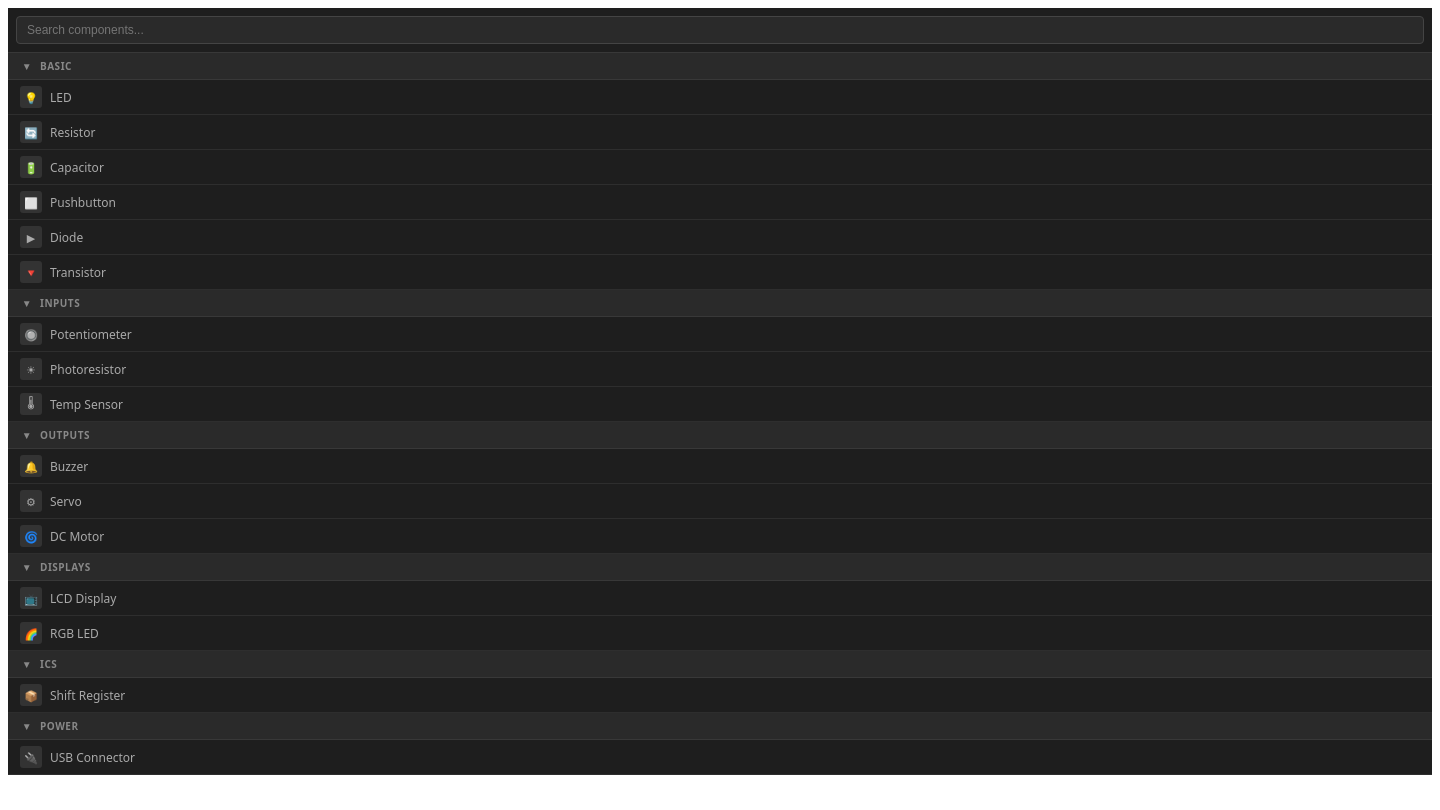
Test: TinkercadPalette › collapses a category when its header is clicked
This screenshot has width=1440, height=810.
Expected: the text "▼" is shown 6 times, [22,59,32,73]; [22,296,32,310]; [22,428,32,442]; [22,560,32,574]; [22,657,32,671]; [22,719,32,733]
# Click Basic header to collapse
Click the element with test id "category-header-Basic" at [720, 66], box [8,53,1432,80]
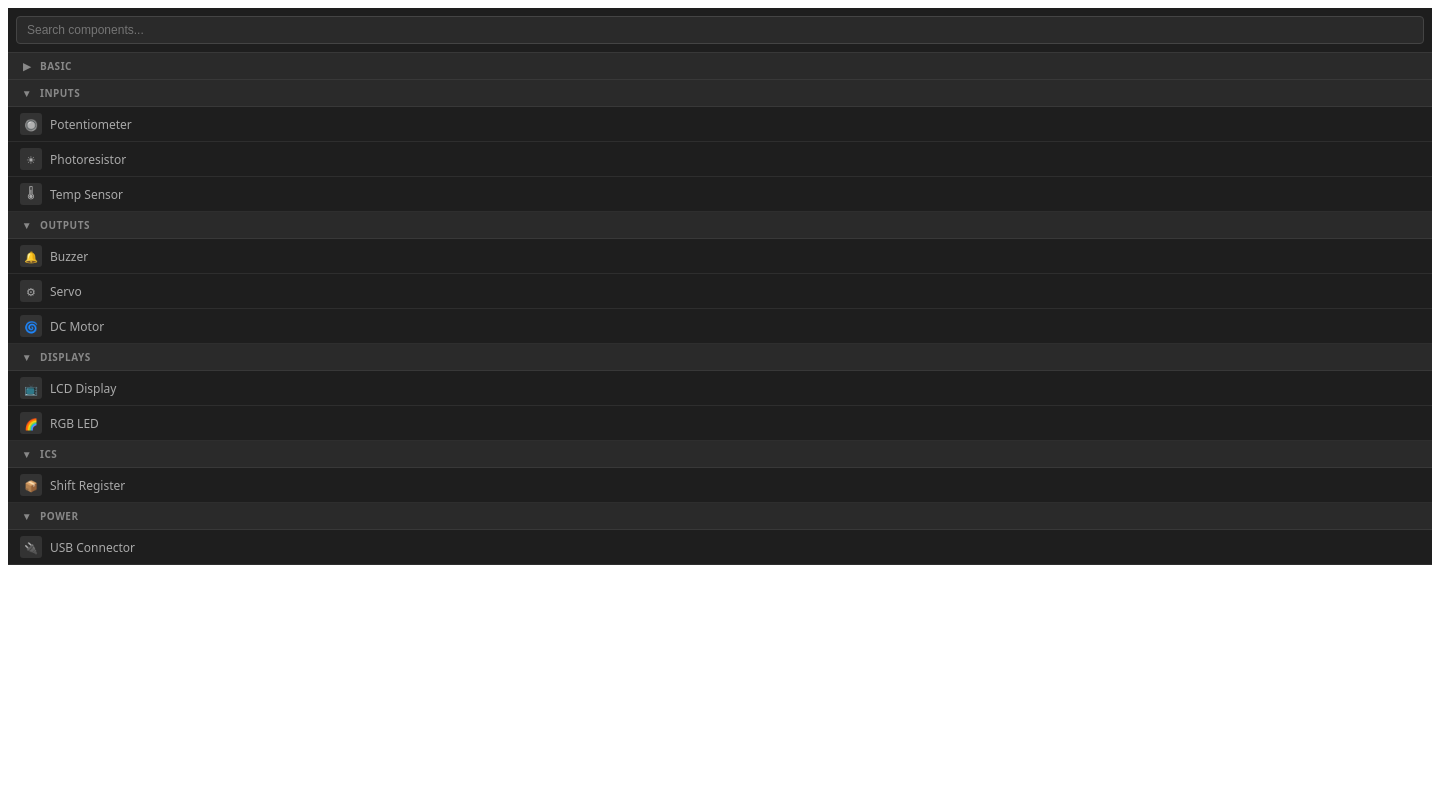
Result: the element with test id "category-header-Basic" shows "▶" at [23,59,31,73]
